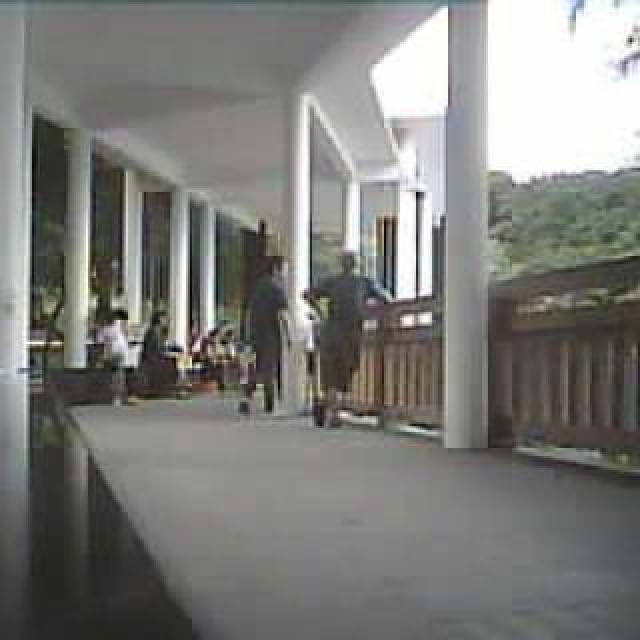non_violence: (306, 247, 392, 427), (245, 258, 289, 414)
